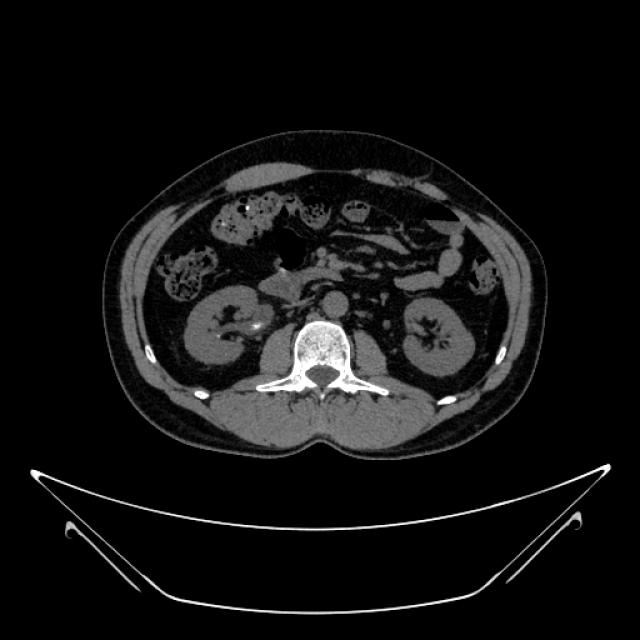kidneystone: (258, 321, 269, 332)
